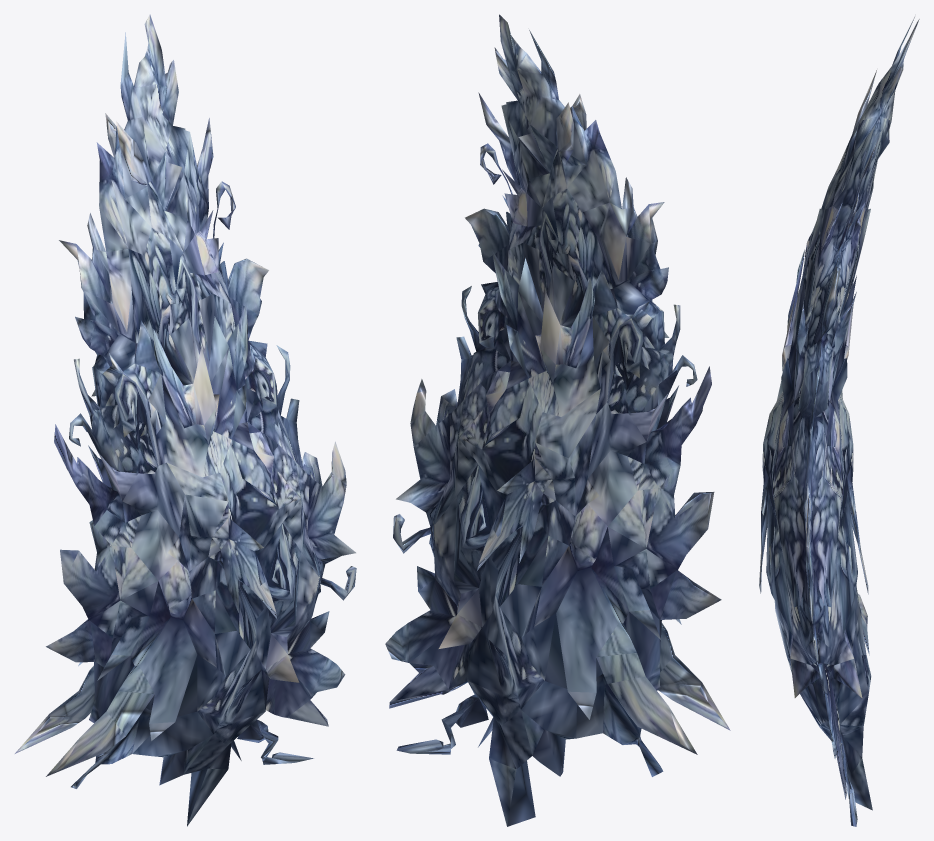
File: moonfeather_bud.glb
3 renders of one model, left to right at view 1: azimuth 30°, elevation 25°; view 2: azimuth 150°, elevation 25°; view 3: azimuth 270°, elevation 25°, orthographic. The views are drawn at different scales.
Visible parts, largest first — view 1: Mesh; view 2: Mesh; view 3: Mesh.
Boxes of the visible parts, x1=… form: Mesh: x1=15, y1=14, x2=356, y2=826; Mesh: x1=385, y1=14, x2=730, y2=826; Mesh: x1=759, y1=17, x2=919, y2=826.
Size of the model in its own units: 0.3703 by 0.8882 by 0.165.
1 material, 1 textured.
